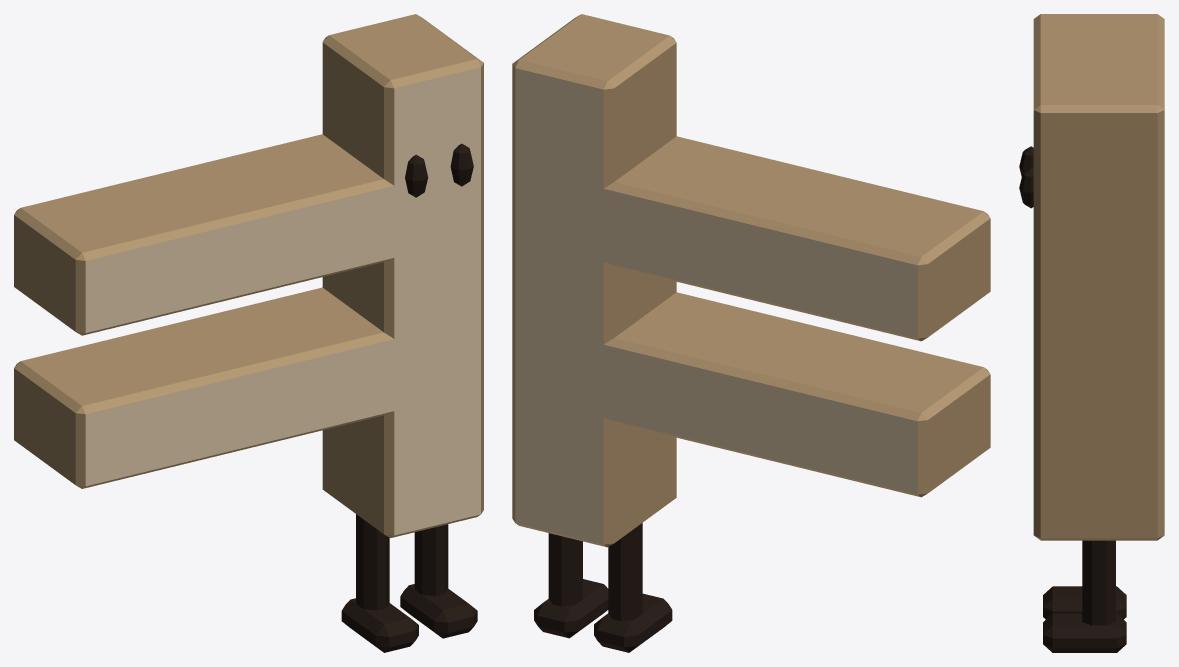
Rendered from yeo.glb.
3 views of the same model, side by side, from view 1: azimuth 30°, elevation 25°; view 2: azimuth 150°, elevation 25°; view 3: azimuth 270°, elevation 25° (orthographic). The views are drawn at different scales.
Parts seen in each view (by area): view 1: Glyph, Leg_L, Leg_R, Eye_R, Eye_L; view 2: Glyph, Leg_L, Leg_R; view 3: Glyph, Leg_R, Leg_L, Eye_R, Eye_L.
Boxes of the visible parts, box(x1,y1,x2,y2) form: Glyph: box(14, 14, 483, 537); Leg_L: box(341, 514, 418, 652); Leg_R: box(400, 524, 477, 638); Eye_R: box(450, 143, 473, 186); Eye_L: box(405, 154, 428, 197); Glyph: box(512, 14, 990, 547); Leg_L: box(594, 523, 672, 652); Leg_R: box(534, 533, 608, 638); Glyph: box(1033, 14, 1164, 540); Leg_R: box(1043, 540, 1126, 652); Leg_L: box(1043, 586, 1126, 619); Eye_R: box(1019, 167, 1033, 208); Eye_L: box(1019, 146, 1033, 176).
Size of the model in its own units: 0.376 by 0.508 by 0.122.
